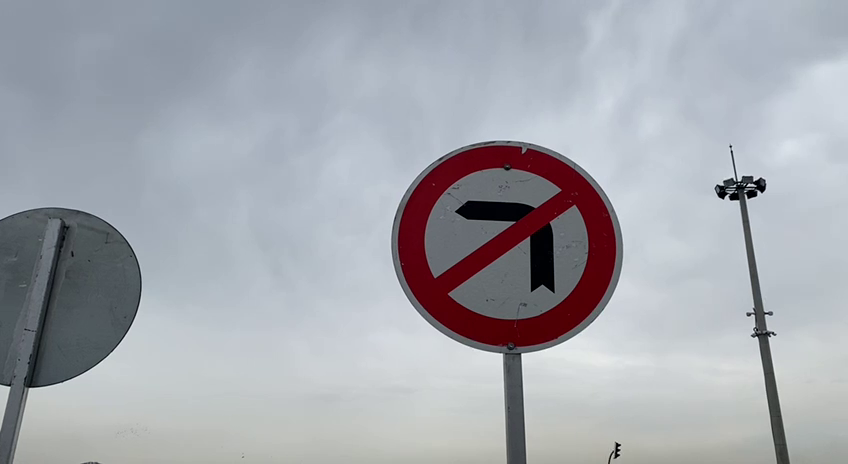noTurnLeft: (386, 135, 627, 358)
